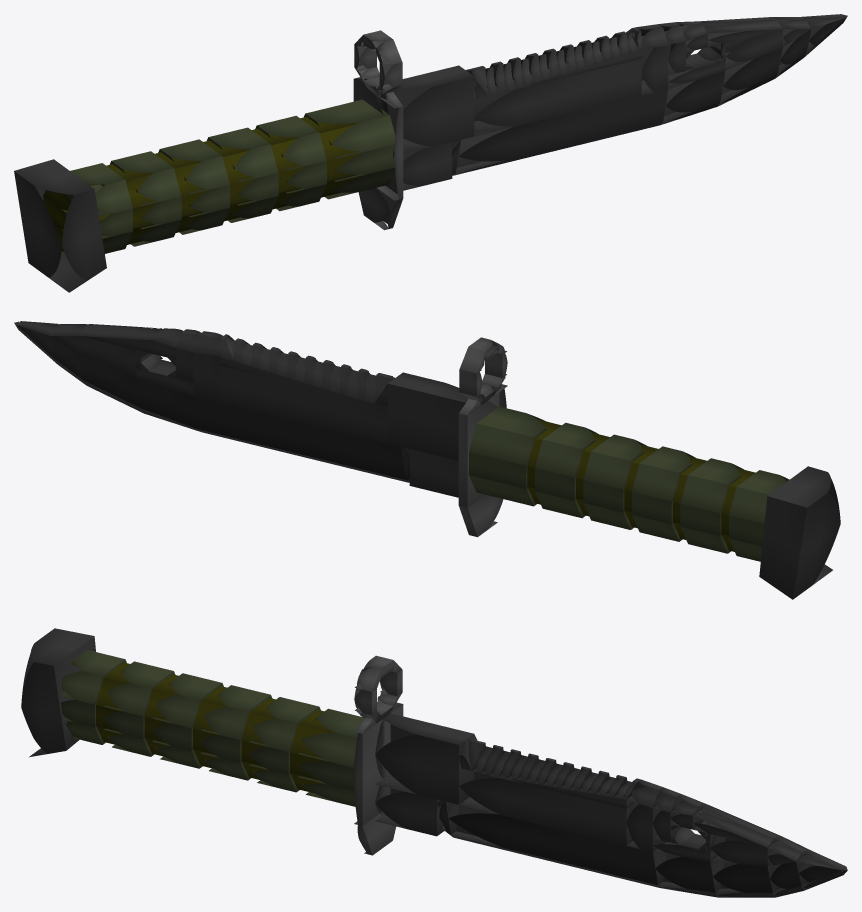
File: bayonet.obj
The picture shows the model from 3 angles, top to bottom: view 1: azimuth 30°, elevation 25°; view 2: azimuth 150°, elevation 25°; view 3: azimuth 330°, elevation 25°; orthographic projection.
Parts seen in each view (by area): view 1: gunModel85, gunModel19, gunModel2, gunModel0, gunModel68, gunModel66, gunModel69, gunModel1, gunModel70, gunModel80, gunModel74, gunModel77 (+28 smaller); view 2: gunModel85, gunModel19, gunModel2, gunModel0, gunModel66, gunModel68, gunModel70, gunModel77, gunModel74, gunModel80, gunModel57, gunModel1 (+27 smaller); view 3: gunModel19, gunModel0, gunModel2, gunModel85, gunModel68, gunModel57, gunModel1, gunModel66, gunModel77, gunModel80, gunModel74, gunModel70 (+31 smaller).
Boxes of the visible parts, bbox=[...] form: gunModel85: bbox=[14, 159, 106, 292]; gunModel19: bbox=[452, 80, 668, 172]; gunModel2: bbox=[474, 59, 641, 136]; gunModel0: bbox=[378, 65, 474, 153]; gunModel68: bbox=[43, 117, 365, 216]; gunModel66: bbox=[304, 99, 395, 158]; gunModel69: bbox=[43, 152, 364, 236]; gunModel1: bbox=[385, 138, 452, 190]; gunModel70: bbox=[255, 115, 326, 170]; gunModel80: bbox=[110, 151, 181, 205]; gunModel74: bbox=[207, 127, 278, 182]; gunModel77: bbox=[158, 139, 229, 194]; gunModel85: bbox=[759, 466, 840, 599]; gunModel19: bbox=[193, 396, 405, 479]; gunModel2: bbox=[220, 366, 387, 443]; gunModel0: bbox=[387, 372, 467, 460]; gunModel66: bbox=[469, 405, 547, 465]; gunModel68: bbox=[527, 419, 755, 515]; gunModel70: bbox=[535, 422, 598, 477]; gunModel77: bbox=[632, 446, 695, 501]; gunModel74: bbox=[583, 434, 646, 489]; gunModel80: bbox=[680, 458, 743, 512]; gunModel57: bbox=[458, 385, 506, 507]; gunModel1: bbox=[409, 449, 458, 497]; gunModel19: bbox=[448, 803, 666, 885]; gunModel0: bbox=[375, 713, 474, 804]; gunModel2: bbox=[459, 770, 639, 845]; gunModel85: bbox=[21, 628, 95, 757]; gunModel68: bbox=[62, 662, 335, 761]; gunModel57: bbox=[353, 704, 403, 825]; gunModel1: bbox=[375, 774, 444, 836]; gunModel66: bbox=[298, 708, 363, 767]; gunModel77: bbox=[152, 673, 223, 728]; gunModel80: bbox=[104, 661, 175, 716]; gunModel74: bbox=[201, 685, 272, 739]; gunModel70: bbox=[249, 697, 320, 751].
Size of the model in its own units: 9.23 by 2 by 0.8.
